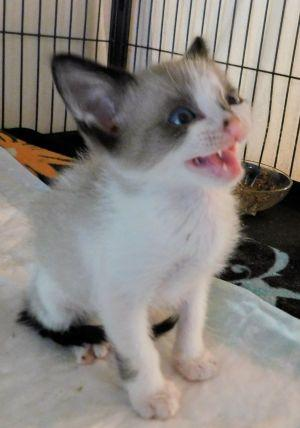ragdoll: (45, 22, 259, 214)
